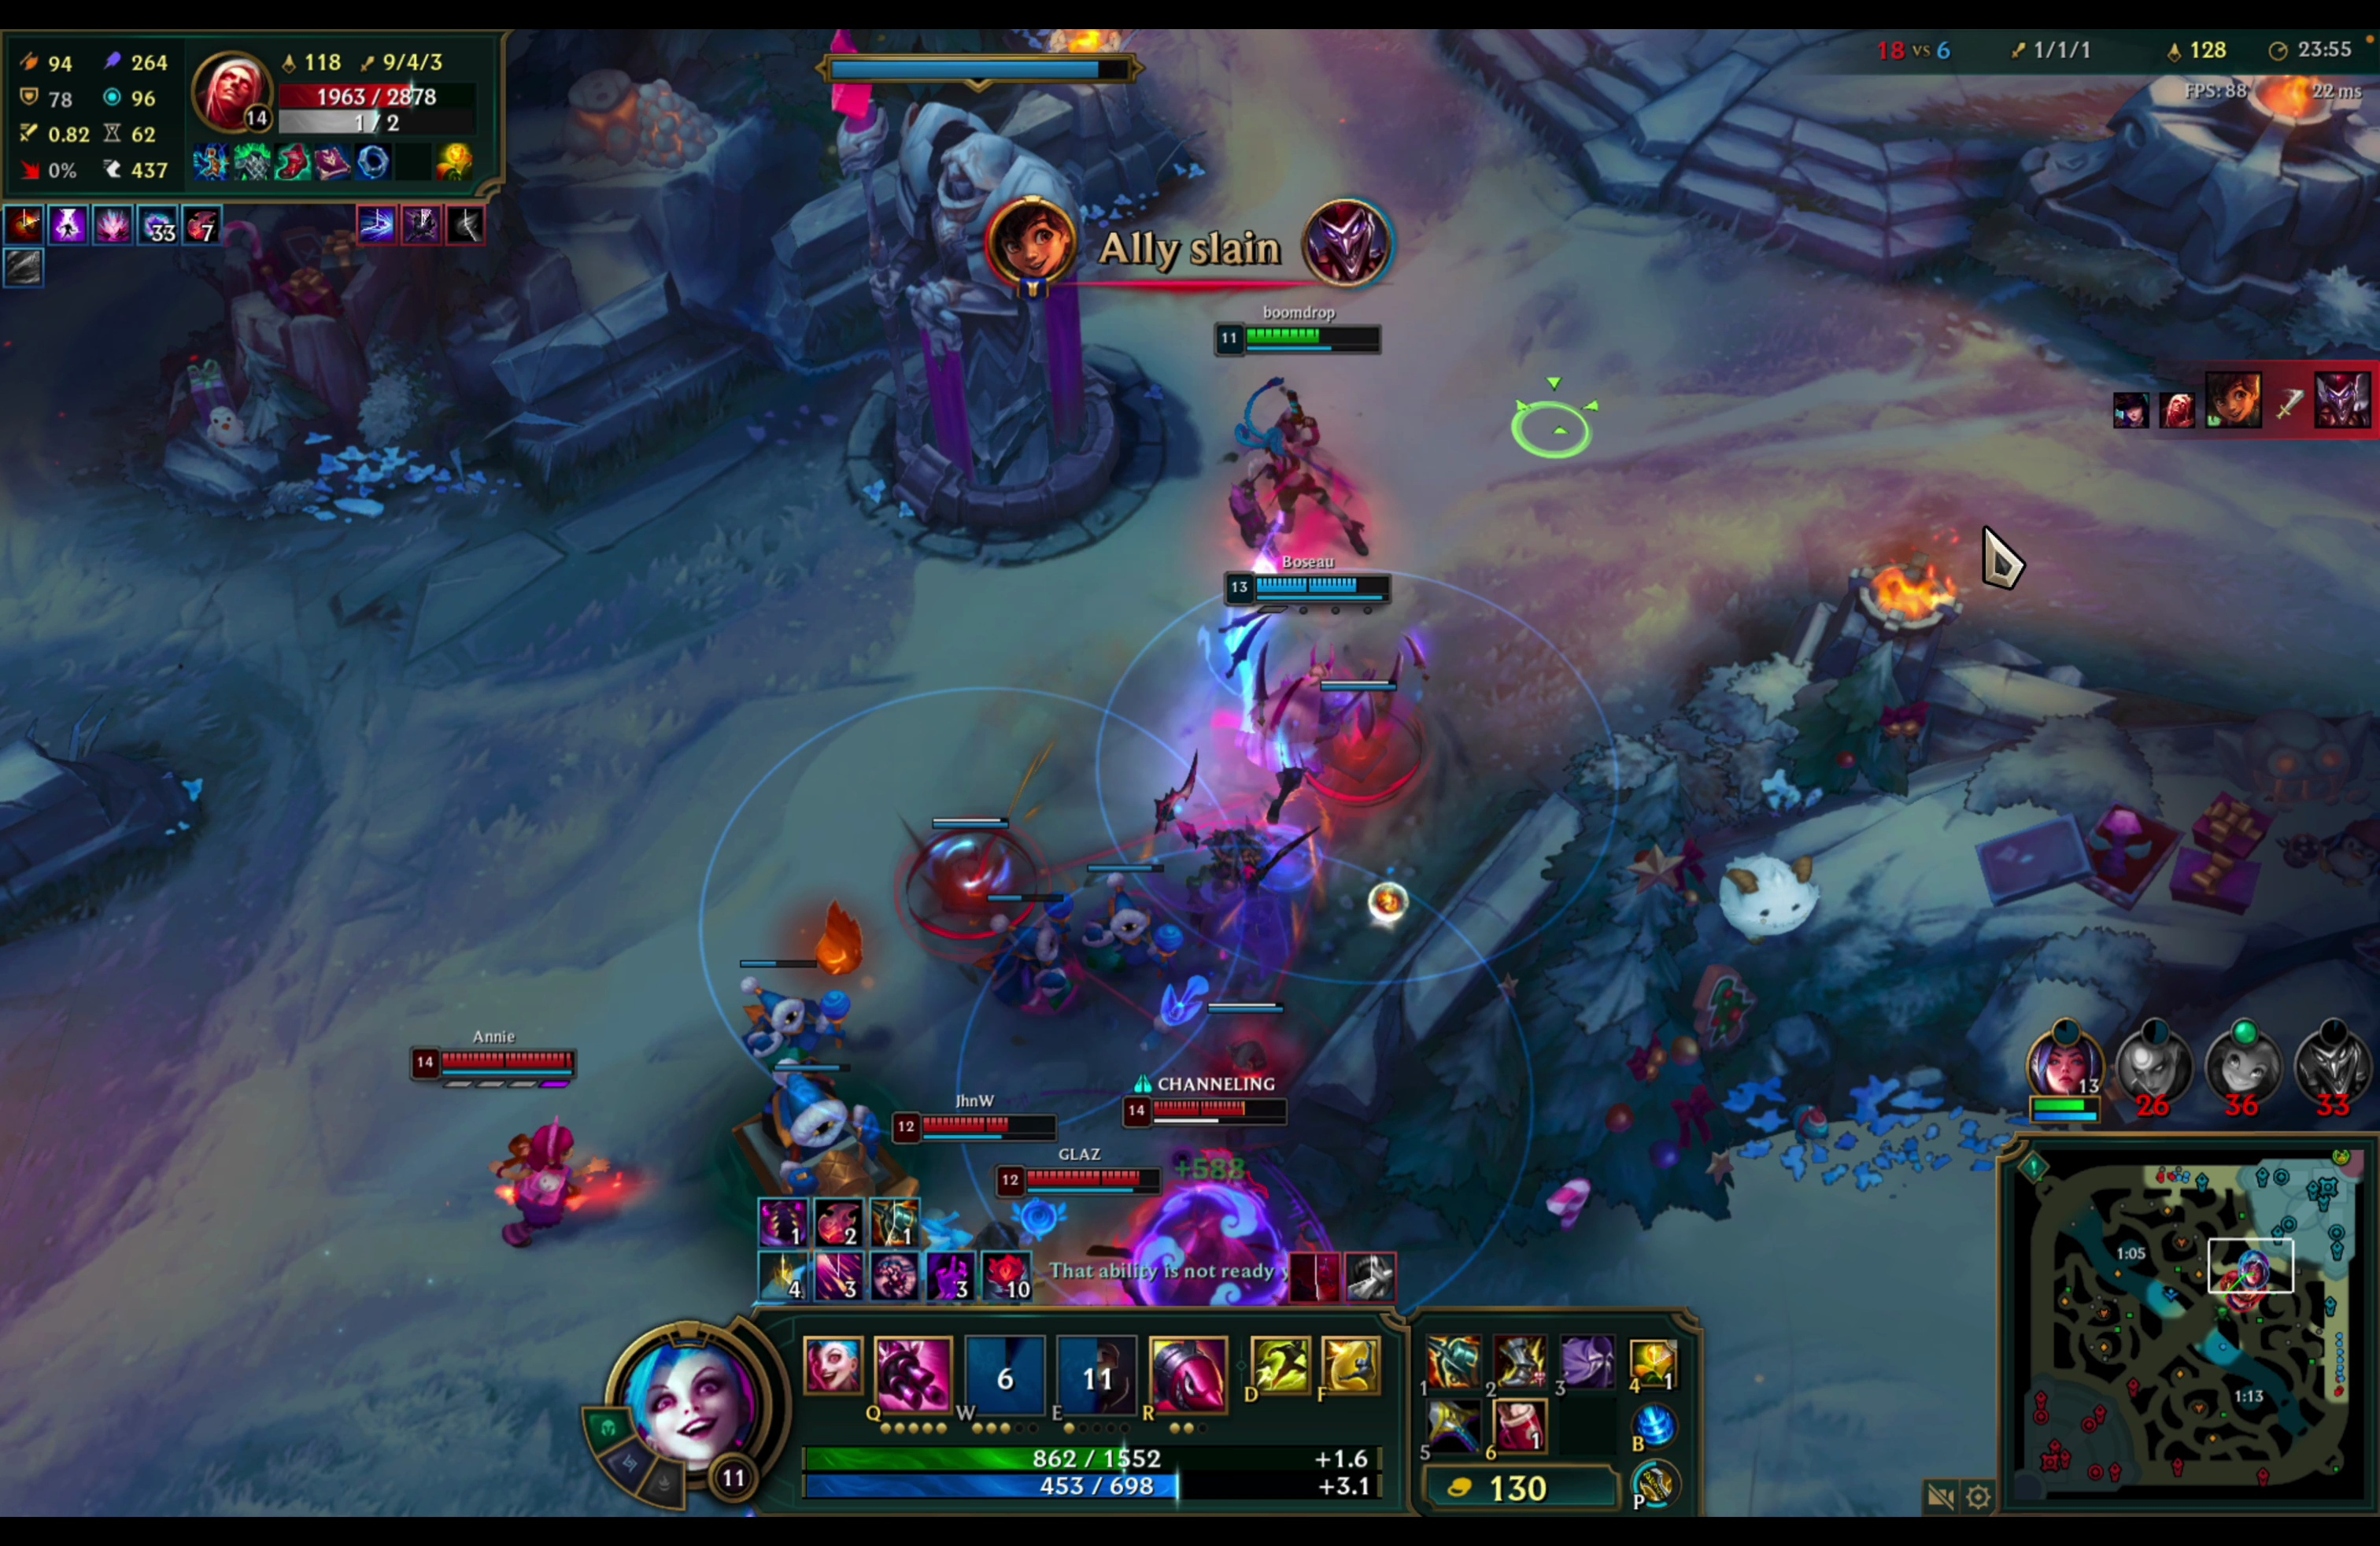JINX_W_PROJECTILE: (1185, 297, 1429, 779)
